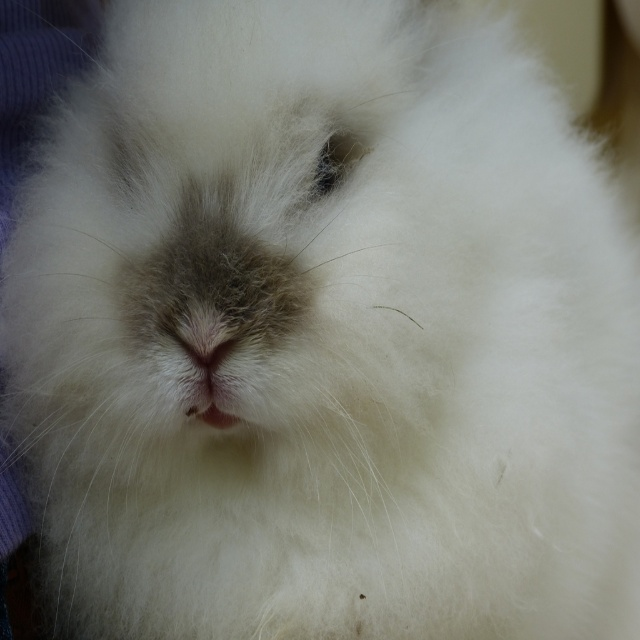Rabbit: (0, 1, 640, 640)
